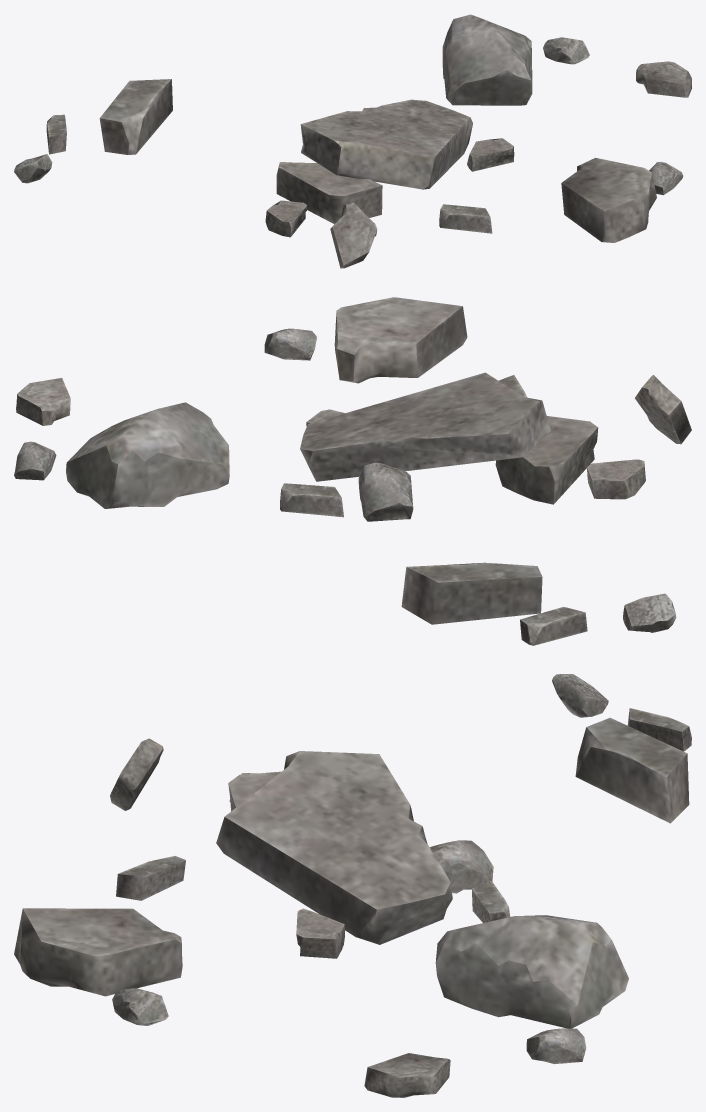
Rendered from debris_scatter_a_mossy.glb.
3 views of the same model, one above another, from view 1: azimuth 30°, elevation 25°; view 2: azimuth 150°, elevation 25°; view 3: azimuth 270°, elevation 25° (orthographic). The views are drawn at different scales.
Visible parts, largest first — view 1: debris_scatter_a_mossy; view 2: debris_scatter_a_mossy; view 3: debris_scatter_a_mossy.
Boxes of the visible parts, x1,y1,x2,y2 form: debris_scatter_a_mossy: (14, 14, 691, 268); debris_scatter_a_mossy: (14, 297, 691, 645); debris_scatter_a_mossy: (14, 674, 691, 1097).
Bounding box in the file's own units: 0.7464 × 0.0885 × 0.5359.
1 material, 1 textured.
